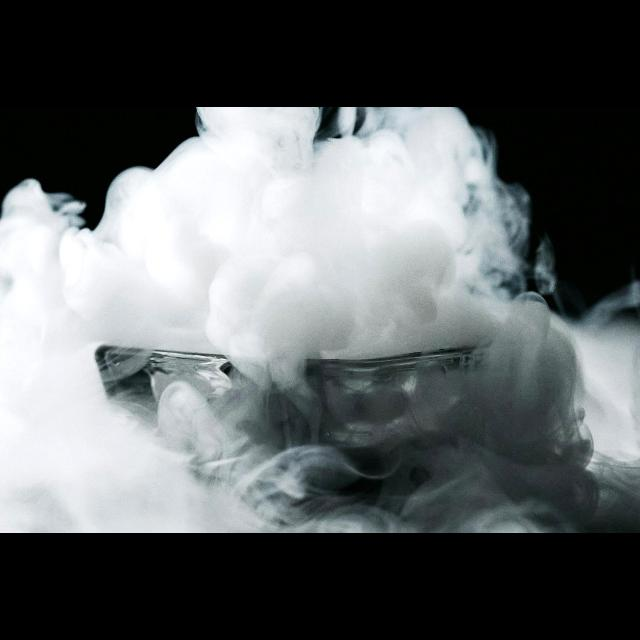smoke: (0, 107, 613, 534)
